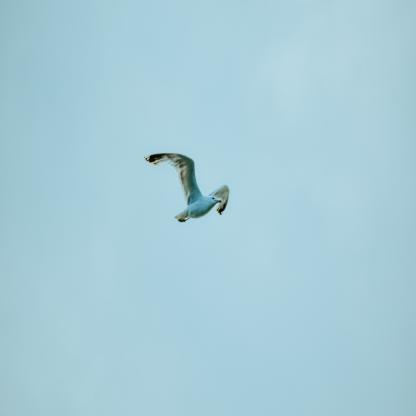bird: (145, 152, 230, 225)
